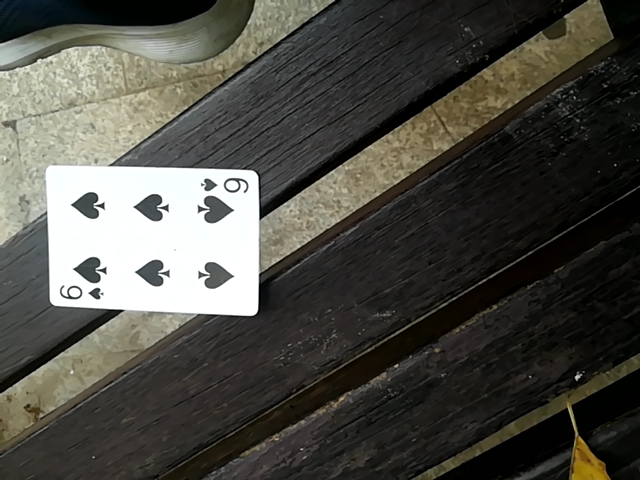ht 6: (36, 166, 264, 323)
